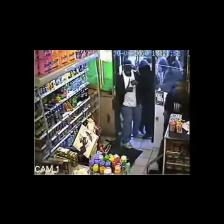person: (116, 60, 141, 148), (163, 80, 189, 136), (139, 59, 153, 138)
